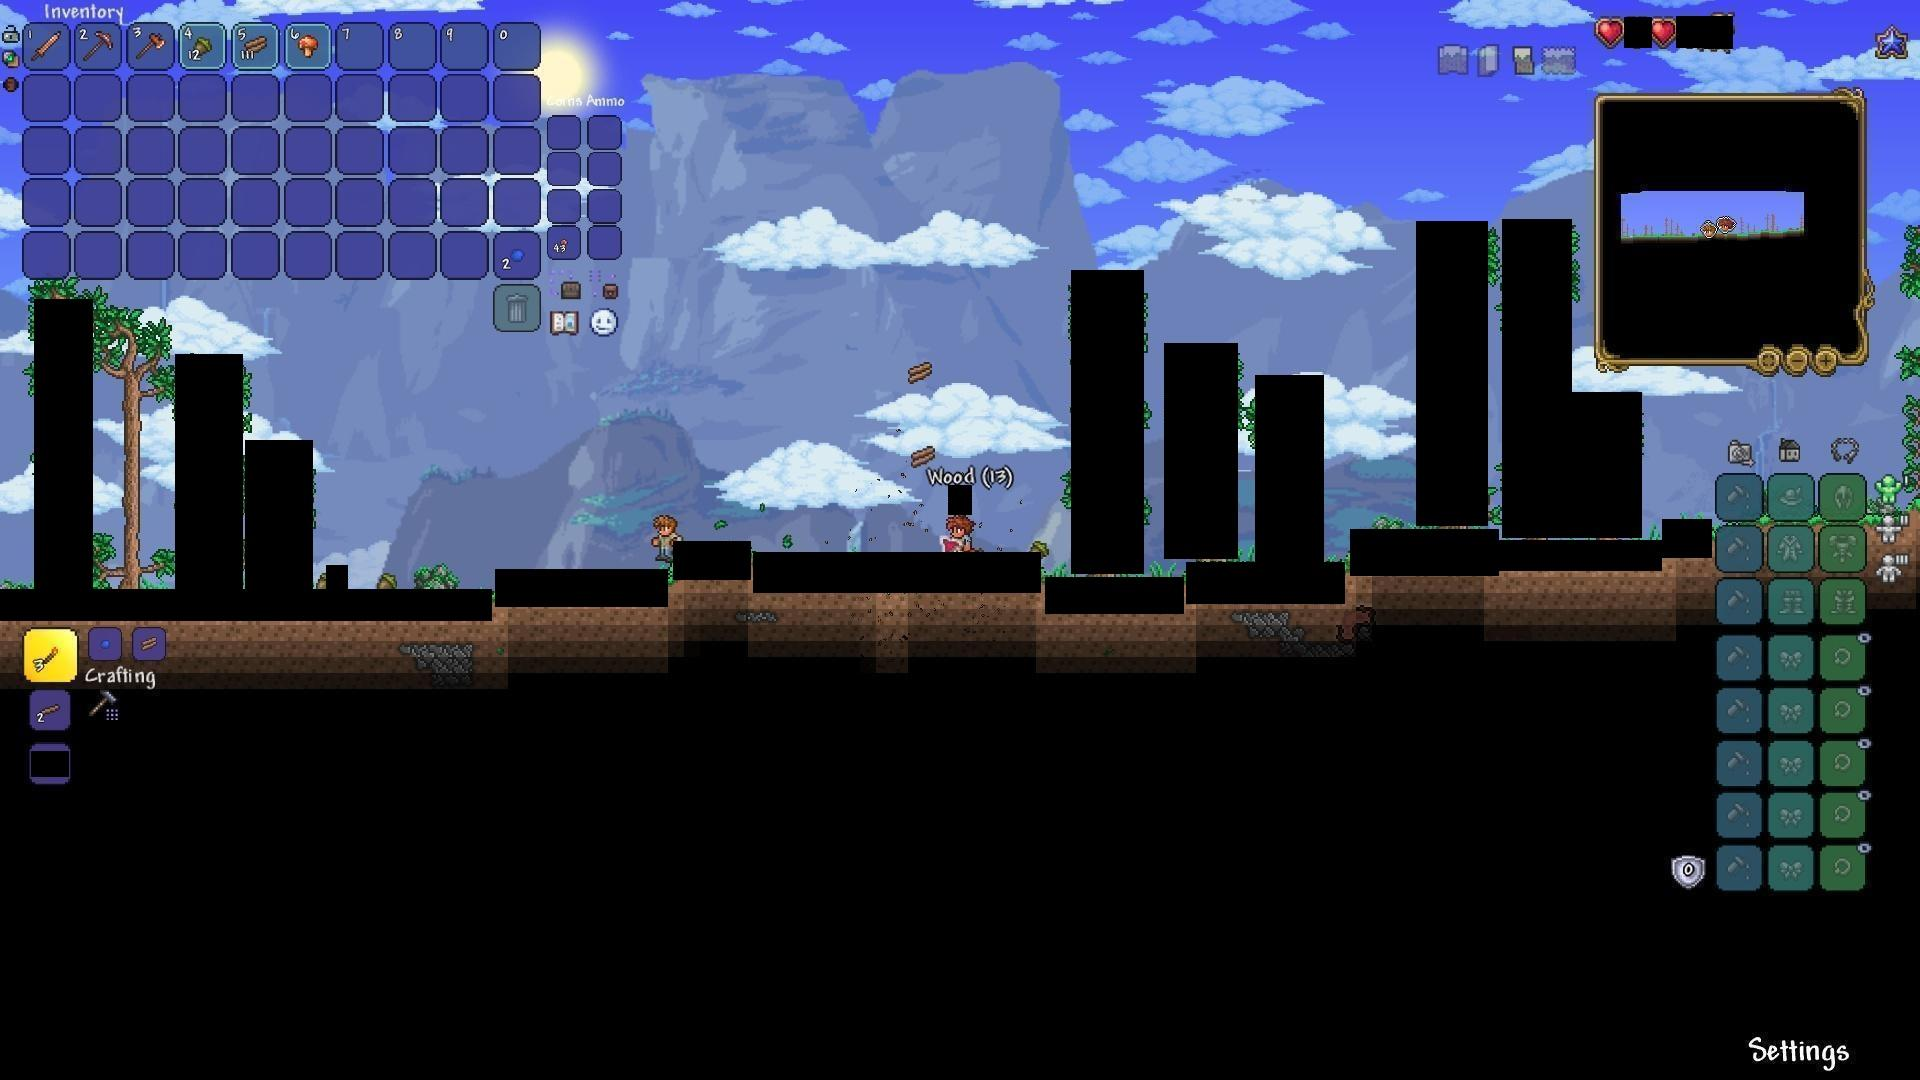heart: (1597, 16, 1629, 45), (1648, 17, 1677, 47)
tree: (107, 314, 160, 589)
wood: (135, 629, 167, 659), (906, 359, 938, 389), (906, 440, 938, 471), (243, 32, 276, 61)
